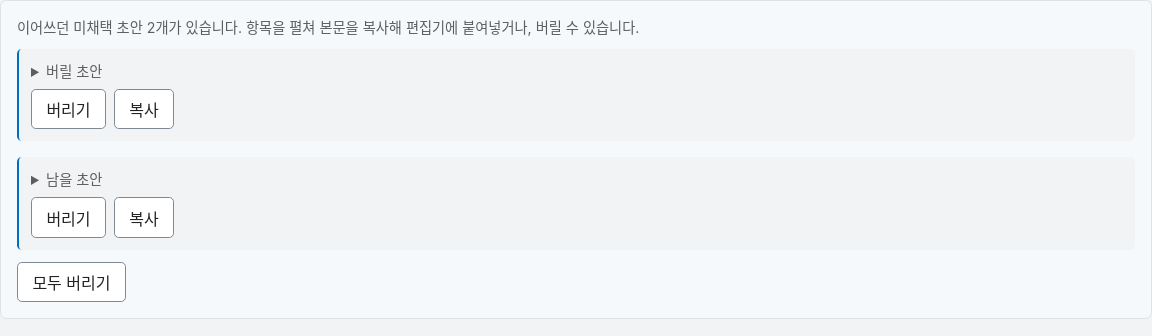
ScratchRecovery › discards a single item after confirmation, keeping siblings
Expected: the text "이어쓰던 미채택 초안 2개가 있습니다. 항목을 펼쳐 본문을 복사해 편집기에 붙여넣거나, 버릴 수 있습니다." is shown, [17,19,639,36]
Click the button "버리기" below "버릴 초안". click: (68, 109)
box: [31,89,106,129]
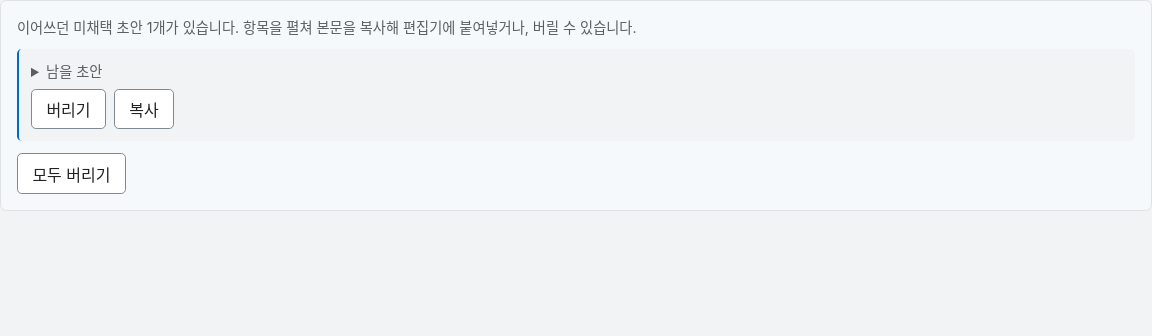
Expected: the heading "남을 초안" is shown, [46,63,102,80]
Result: the text "이어쓰던 미채택 초안 1개가 있습니다. 항목을 펼쳐 본문을 복사해 편집기에 붙여넣거나, 버릴 수 있습니다." is shown at [17,19,636,36]
Result: no headings "버릴 초안" are shown
